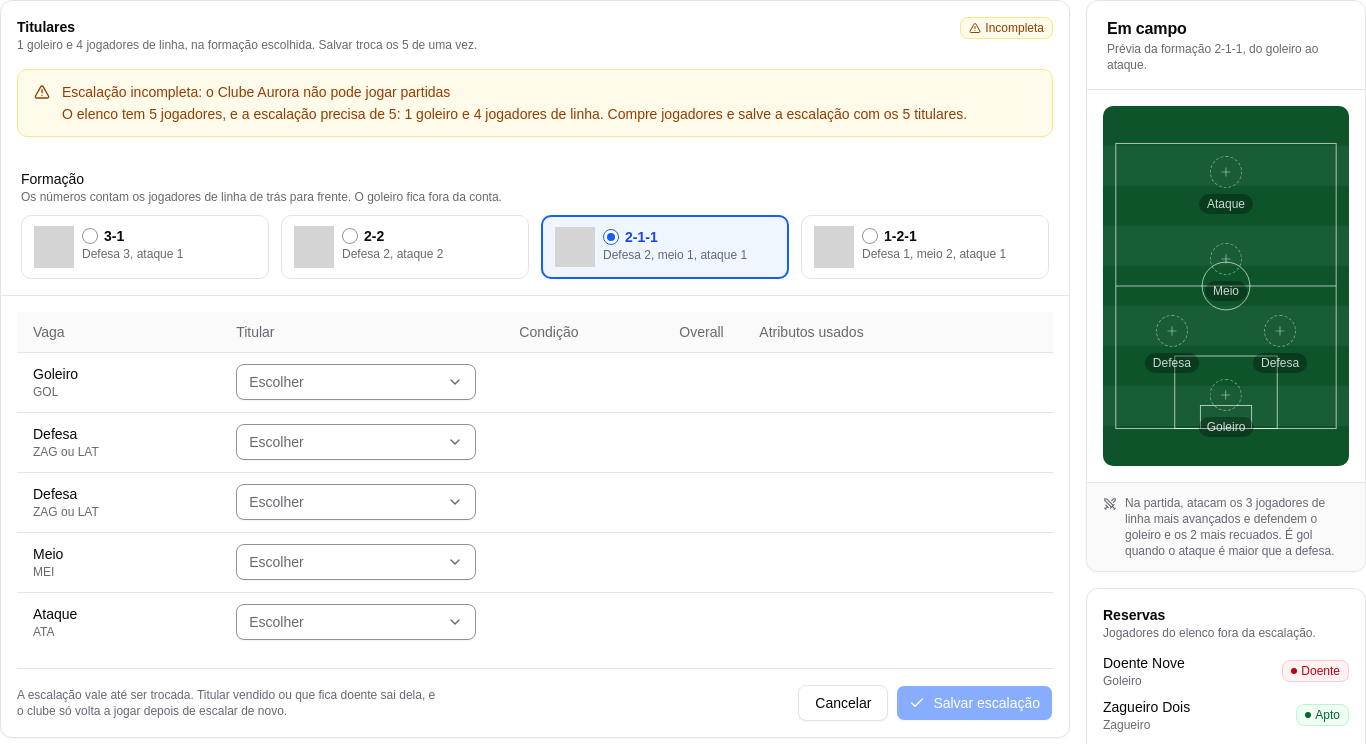
Test: LineupBoard › recusa escalar jogador DOENTE
The width and height of the screenshot is (1366, 744).
Expected: the text "Incompleta" is shown, [960,17,1053,39]
Click the dropdown named "Goleiro" at (356, 382), box [236,364,476,400]
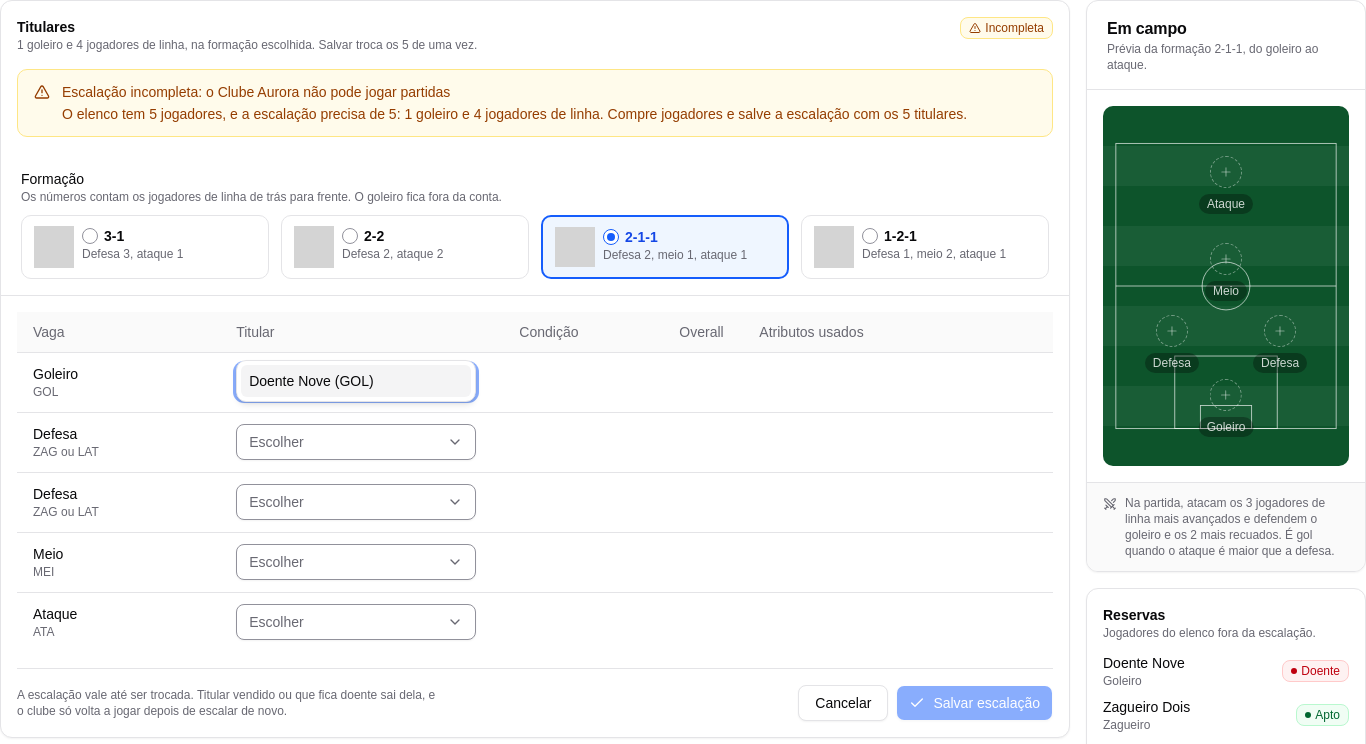
Click the option "Doente Nove (GOL)" at (356, 381), box [241,365,471,397]
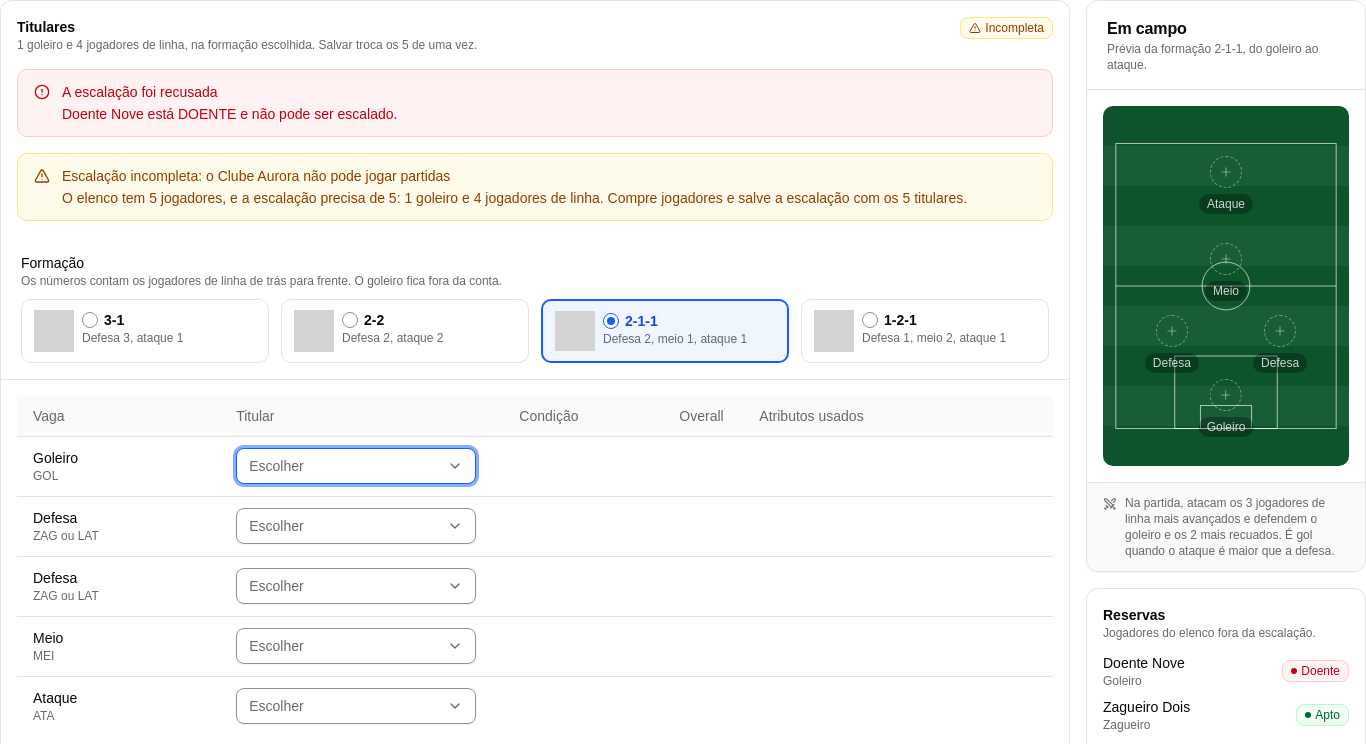
Result: the text "A escalação foi recusada" is shown at [62,84,218,100]
Result: the text "Doente Nove está DOENTE e não pode ser escalado." is shown at [62,106,397,122]
